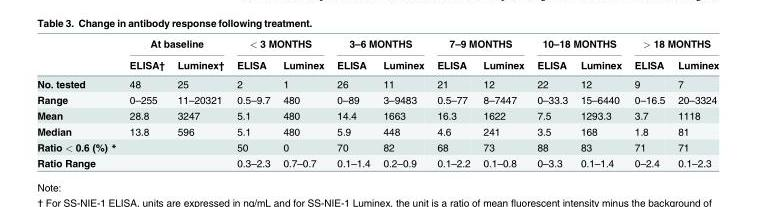table: (36, 37, 718, 168)
table column: (36, 37, 122, 168), (170, 37, 229, 168), (275, 37, 329, 168), (476, 37, 530, 168), (573, 37, 627, 168), (376, 37, 429, 168), (122, 37, 170, 168), (670, 37, 718, 168), (329, 37, 376, 168), (429, 37, 476, 168), (229, 37, 275, 168), (530, 37, 573, 168), (627, 37, 670, 168)
table column header: (36, 37, 718, 74)
table row: (36, 53, 718, 74), (36, 74, 718, 91), (36, 37, 718, 53), (36, 91, 718, 107), (36, 107, 718, 123), (36, 138, 718, 154), (36, 123, 718, 138), (36, 154, 718, 168)
table spanning cell: (122, 37, 229, 53), (429, 37, 530, 53), (229, 37, 329, 53), (329, 37, 429, 53), (530, 37, 627, 53), (627, 37, 718, 53)
